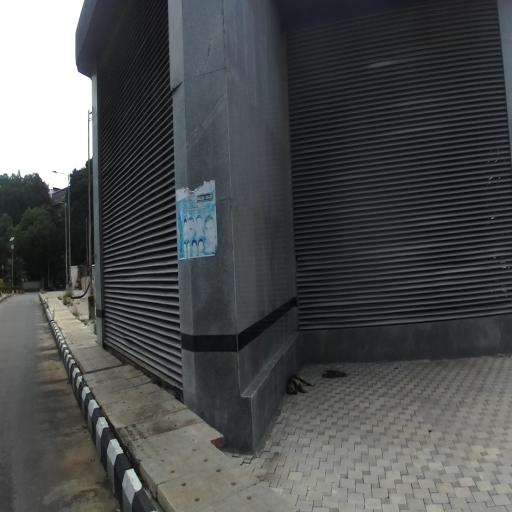street_light_0: (52, 171, 71, 179), (52, 202, 67, 206)
